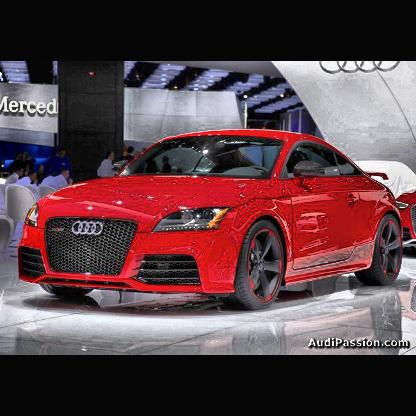Audi TT RS Coupe 2012: (18, 127, 405, 311)
